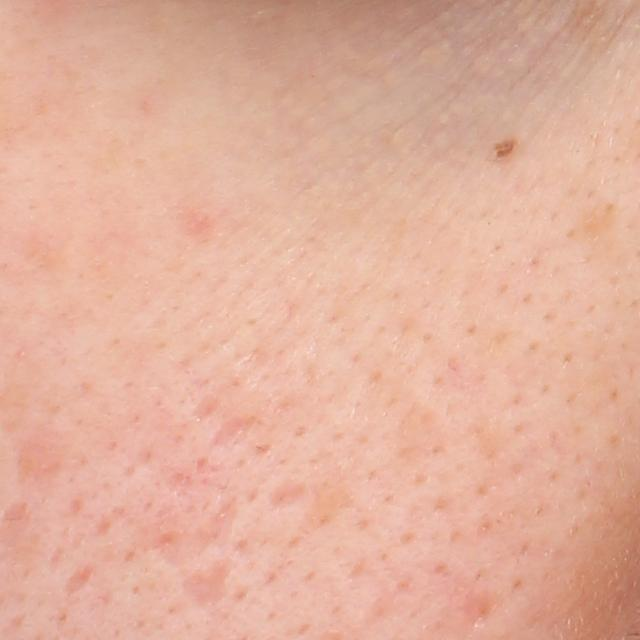atrophic_scar: (178, 558, 243, 608), (189, 496, 237, 556), (460, 589, 501, 635), (203, 422, 257, 451), (266, 481, 304, 510), (60, 563, 92, 597), (186, 393, 221, 424)
nevus: (490, 137, 520, 159)
